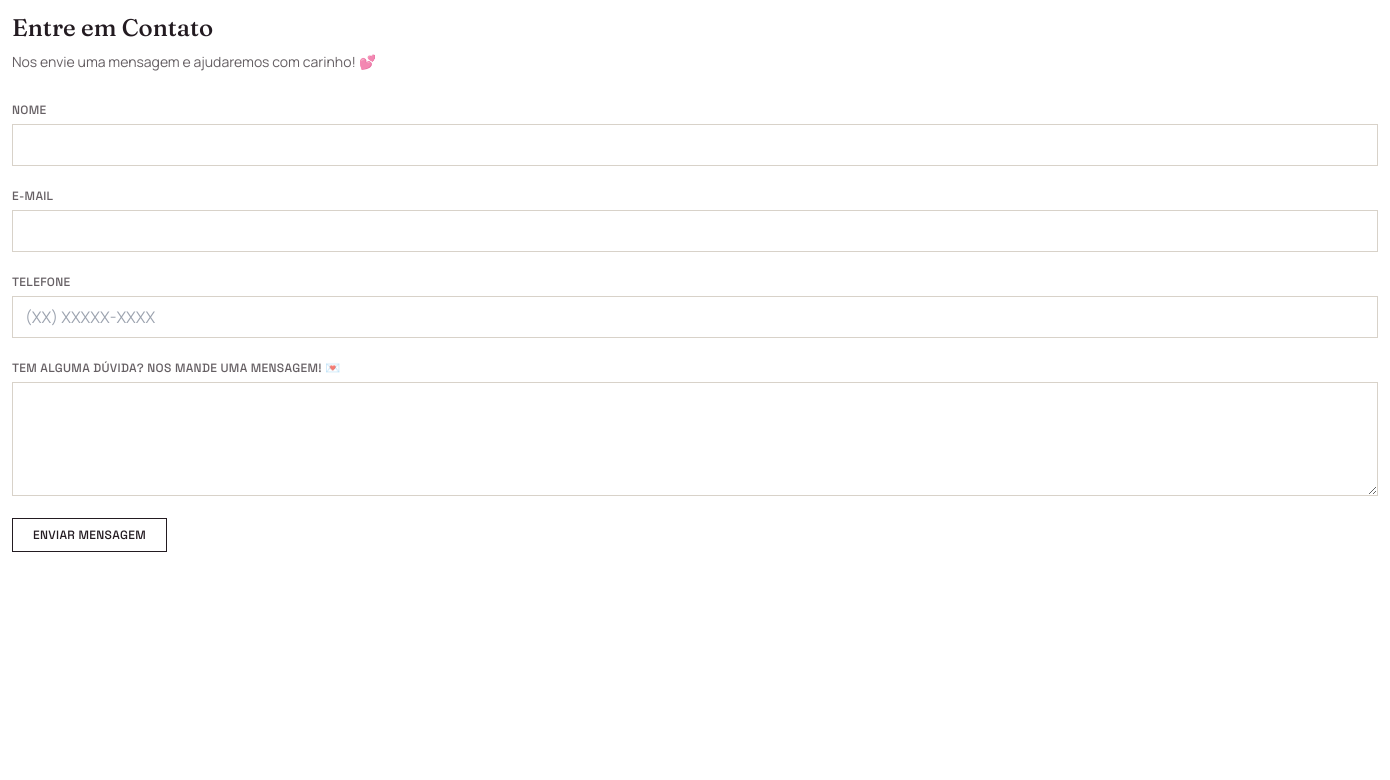
Test: ContactForm Component › Valida que o telefone aceita apenas números
Type "abc123" into the field labelled "Telefone".
click(695, 317); type("abc123")  # box [12, 296, 1378, 338]
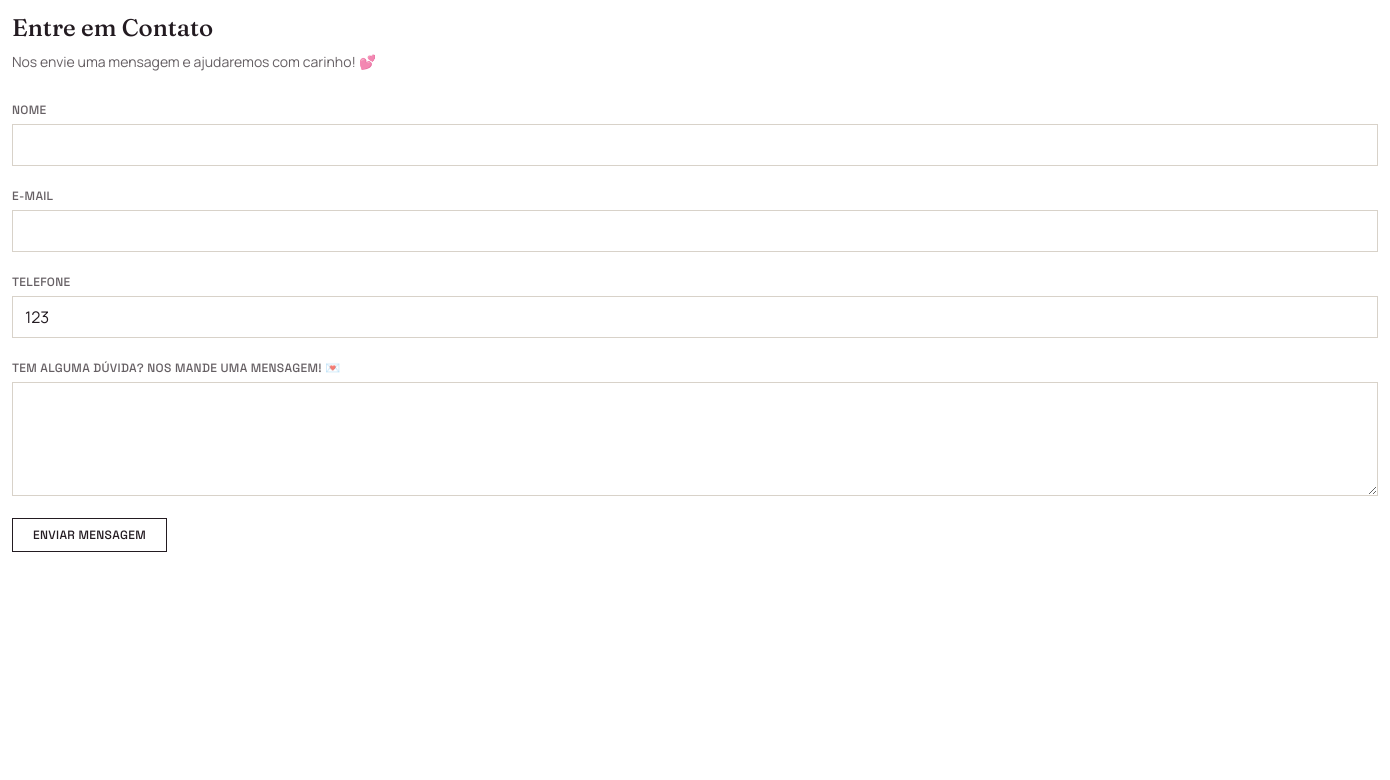
Now the field labelled "Telefone" holds "123", box [12, 296, 1378, 338]
